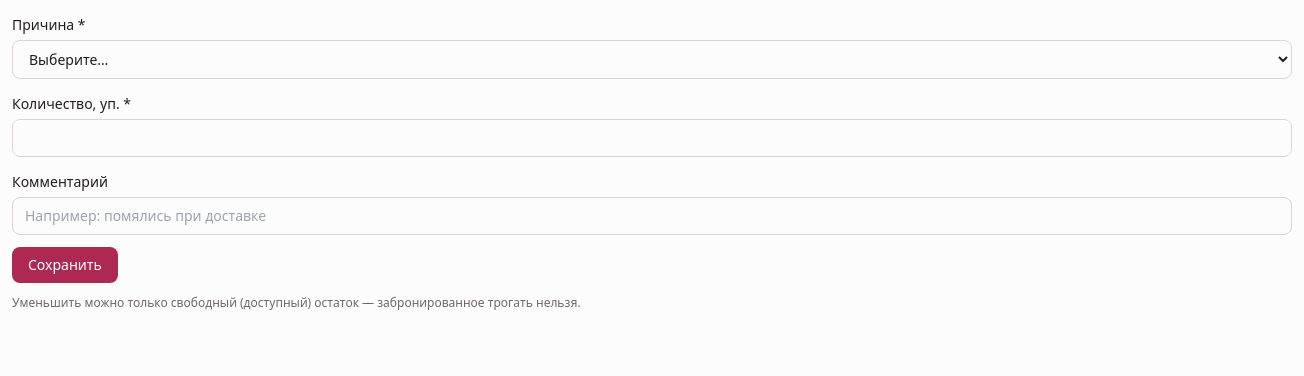
F2: қате болғанда формадағы мәндер сақталады › Склад: себеп + саны + комментарий қатеден кейін сақталады; сәтті болса тазаланады
The width and height of the screenshot is (1304, 376).
Select "− Коррекция −" in the dropdown labelled "Причина *" at (652, 60), box [12,40,1292,79]
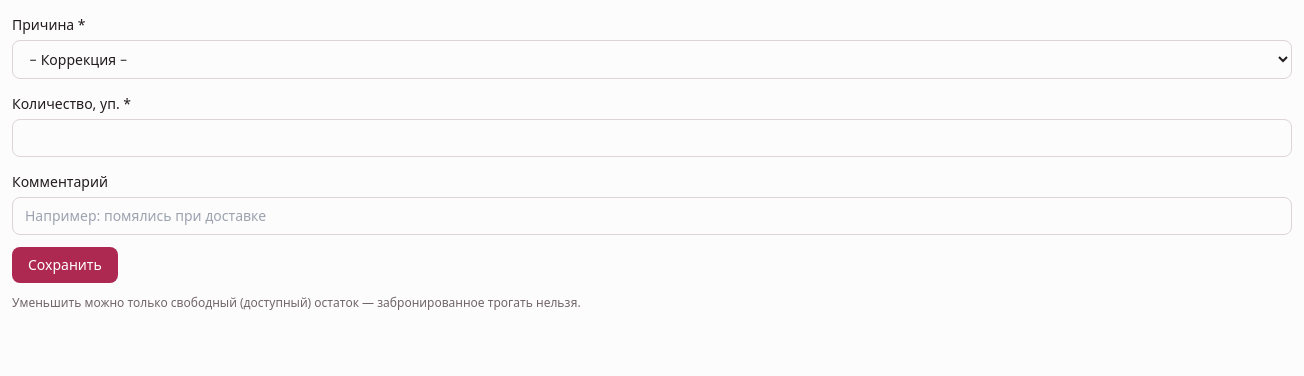
Type "100" into the number field labelled "Количество, уп. *" at (652, 138), box [12,119,1292,157]
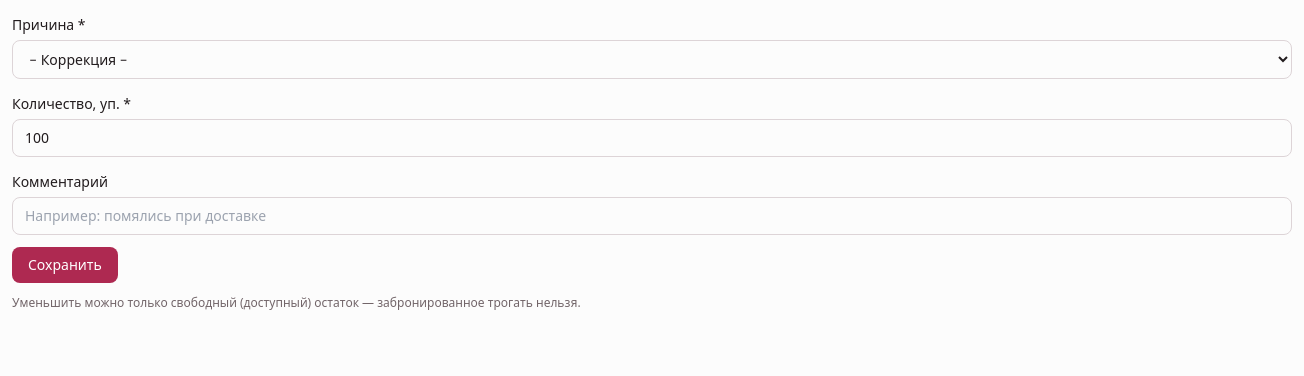
Type "важный комментарий" into the field labelled "Комментарий" at (652, 216), box [12,197,1292,235]
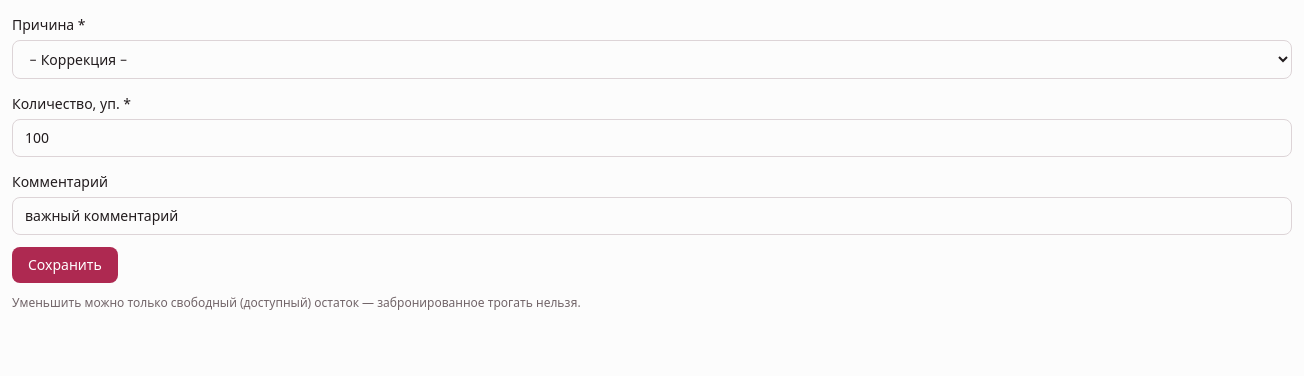
Submit the form
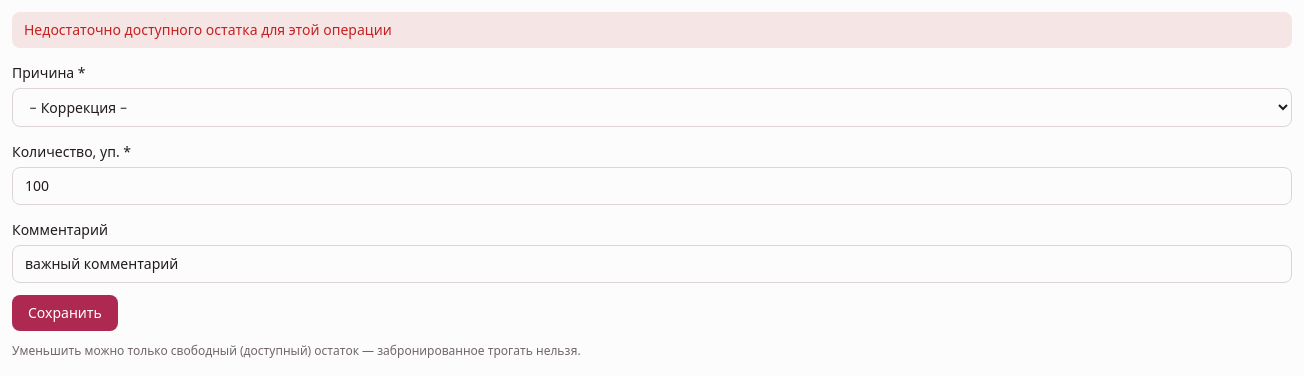
Now the text "Недостаточно доступного остатка для этой операции" is shown, box [12,12,1292,48]
Replace the text in the number field labelled "Количество, уп. *" with "1" at (652, 186), box [12,167,1292,205]
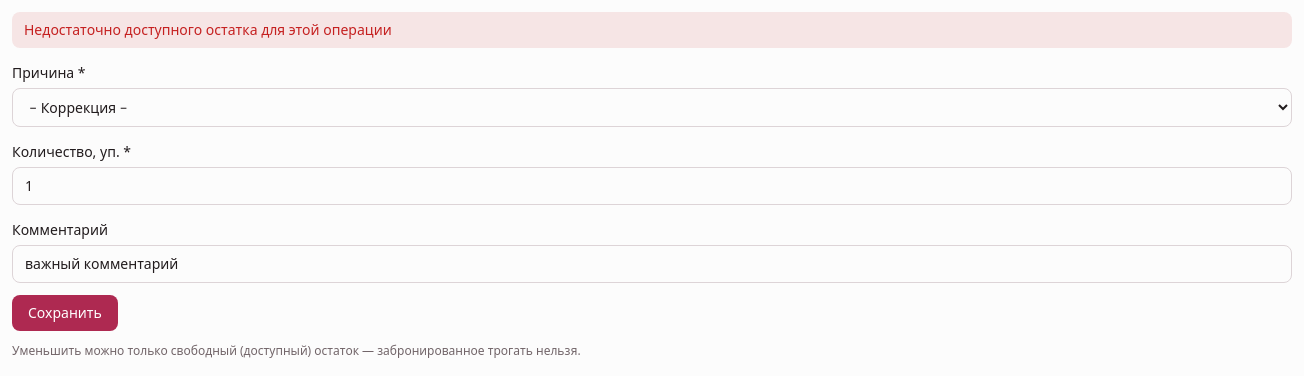
Submit the form
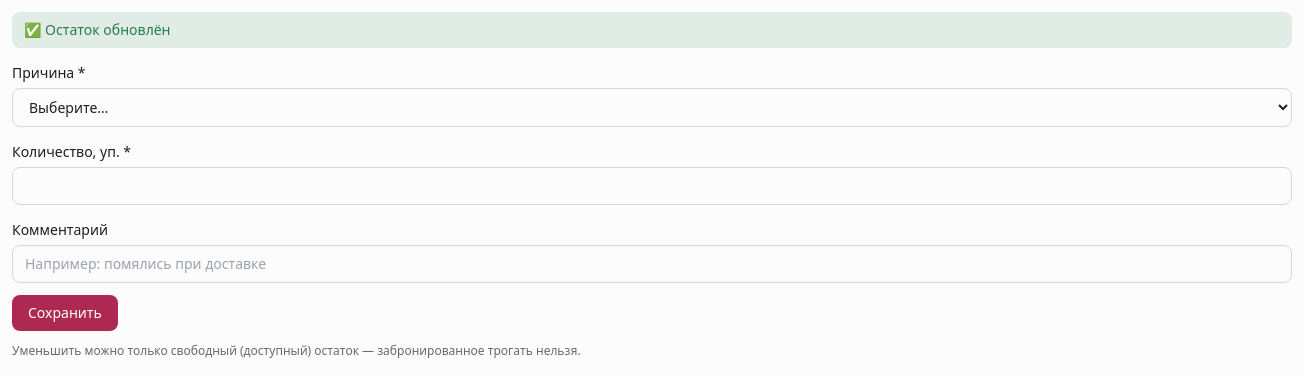
Now the text "✅ Остаток обновлён" is shown, box [12,12,1292,48]
